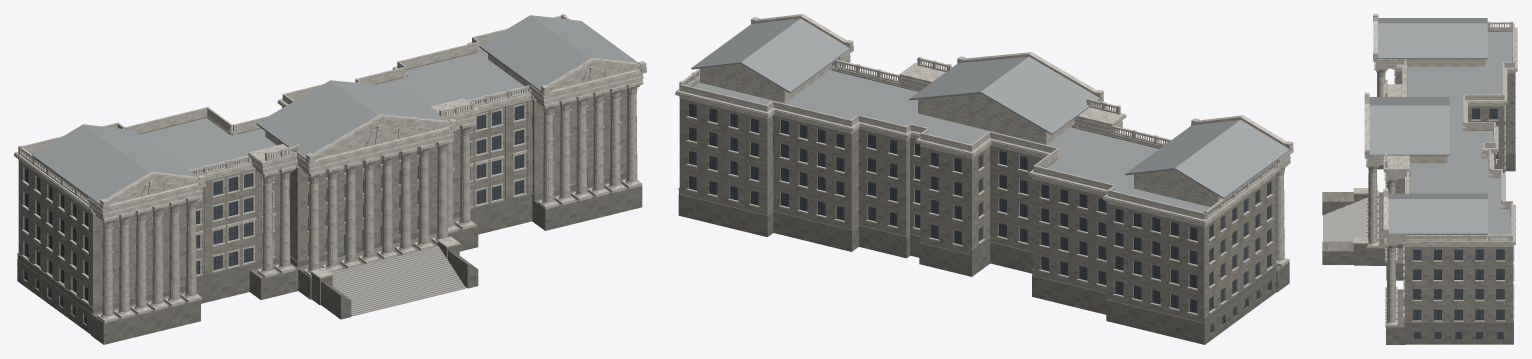
3 views of the same model, side by side, from view 1: azimuth 30°, elevation 25°; view 2: azimuth 150°, elevation 25°; view 3: azimuth 270°, elevation 25° (orthographic). The views are drawn at different scales.
Parts seen in each view (by area): view 1: main__trim, main__ashlar, main__roof, main__column, main__base, main__step, main__glass, main__frame; view 2: main__ashlar, main__roof, main__trim, main__base, main__glass, main__column, main__frame; view 3: main__roof, main__ashlar, main__trim, main__base, main__column, main__glass, main__step, main__frame.
Boxes of the visible parts, x1,y1,x2,y2 form: main__trim: (14, 14, 646, 322); main__ashlar: (18, 44, 627, 307); main__roof: (27, 15, 637, 205); main__column: (44, 54, 637, 316); main__base: (17, 136, 642, 344); main__step: (332, 246, 465, 316); main__glass: (24, 100, 532, 323); main__frame: (24, 105, 522, 324); main__ashlar: (679, 70, 1276, 322); main__roof: (691, 18, 1289, 212); main__trim: (675, 14, 1293, 315); main__base: (678, 154, 1289, 344); main__glass: (688, 103, 1270, 333); main__column: (700, 63, 1284, 260); main__frame: (688, 103, 1270, 332); main__roof: (1369, 18, 1512, 239); main__ashlar: (1395, 31, 1514, 321); main__trim: (1353, 14, 1517, 327); main__base: (1322, 109, 1515, 344); main__column: (1368, 59, 1485, 322); main__glass: (1413, 108, 1504, 338); main__step: (1323, 198, 1366, 241); main__frame: (1413, 109, 1504, 339).
Size of the model in its own units: 94.21 by 27.32 by 36.01.
8 materials, 4 textured.
